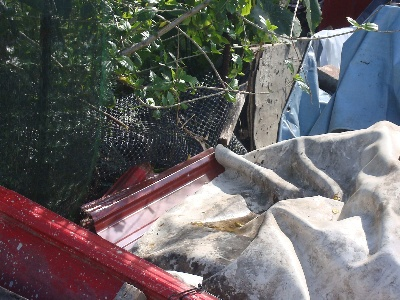plastic_bag: (128, 118, 400, 300), (277, 1, 400, 150)
